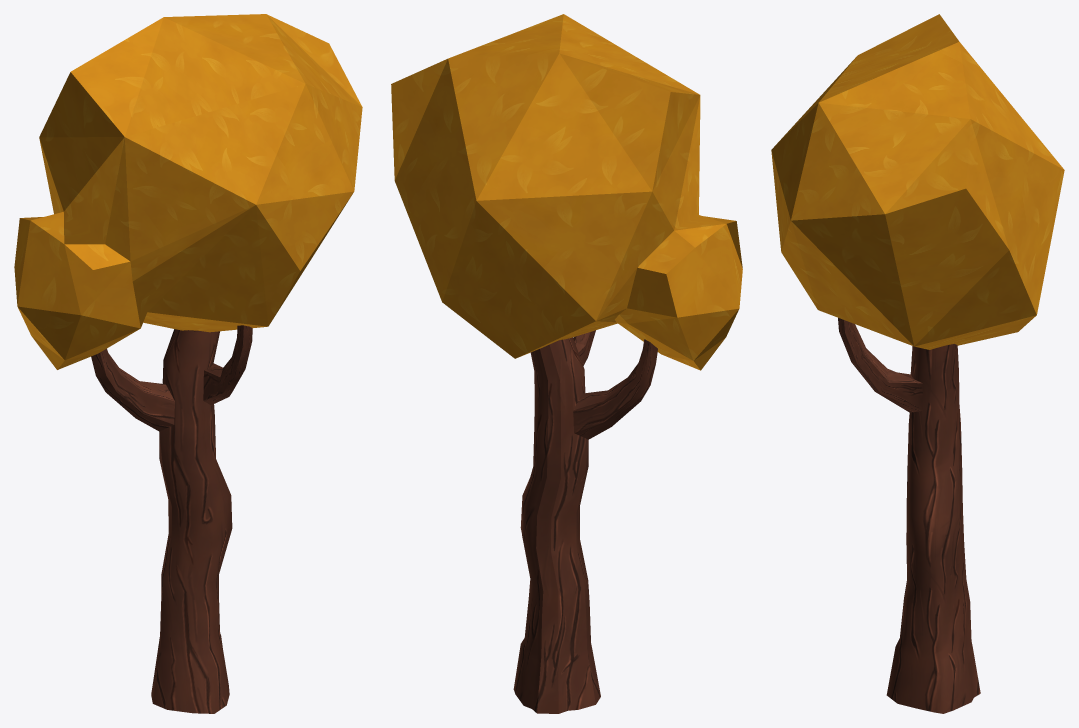
Rendered from Small Tree 1.FBX.
3 renders of one model, left to right at view 1: azimuth 30°, elevation 25°; view 2: azimuth 150°, elevation 25°; view 3: azimuth 270°, elevation 25°, orthographic. The views are drawn at different scales.
Parts seen in each view (by area): view 1: Cylinder002; view 2: Cylinder002; view 3: Cylinder002.
Part boxes in pixels (left/top/right/bottom): Cylinder002: left=14, top=14, right=362, bottom=713; Cylinder002: left=391, top=14, right=742, bottom=713; Cylinder002: left=771, top=14, right=1064, bottom=713.
Bounding box in the file's own units: 25.79 × 49.56 × 20.34.
